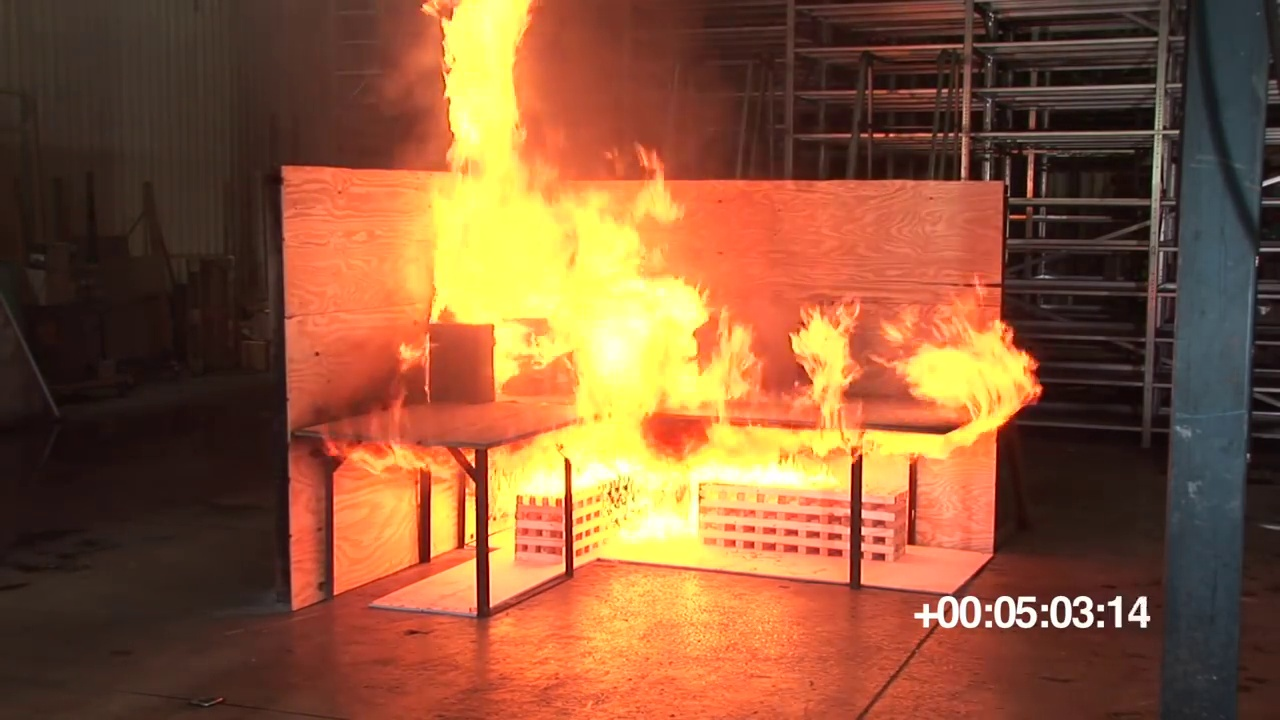fire: (415, 1, 756, 421), (338, 425, 847, 560), (880, 295, 1041, 431), (790, 306, 868, 428)
